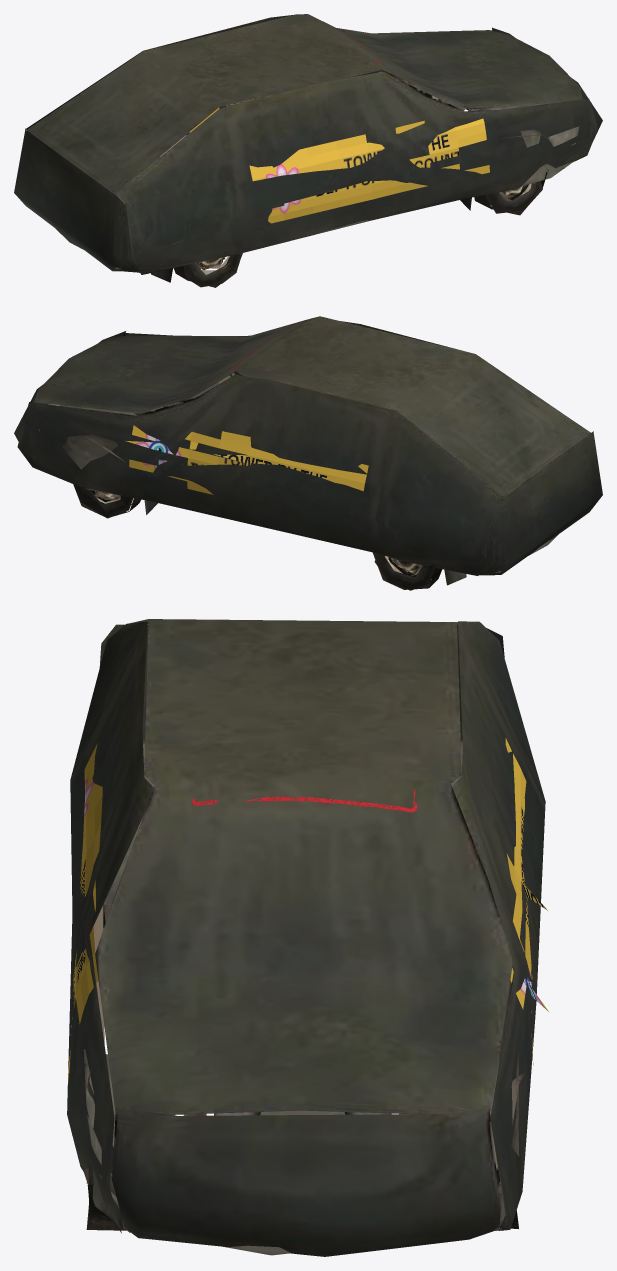
File: car_towed.glb
The picture shows the model from 3 angles, top to bottom: view 1: azimuth 30°, elevation 25°; view 2: azimuth 150°, elevation 25°; view 3: azimuth 270°, elevation 25°; orthographic projection. The views are drawn at different scales.
Parts seen in each view (by area): view 1: x; view 2: x; view 3: x.
Boxes of the visible parts, <box> form: x: <box>14,14,602,287</box>; x: <box>14,316,602,590</box>; x: <box>67,619,549,1256</box>.
Size of the model in its own units: 4.51 by 1.41 by 1.85.
Materials: 5 (5 with a texture image).
